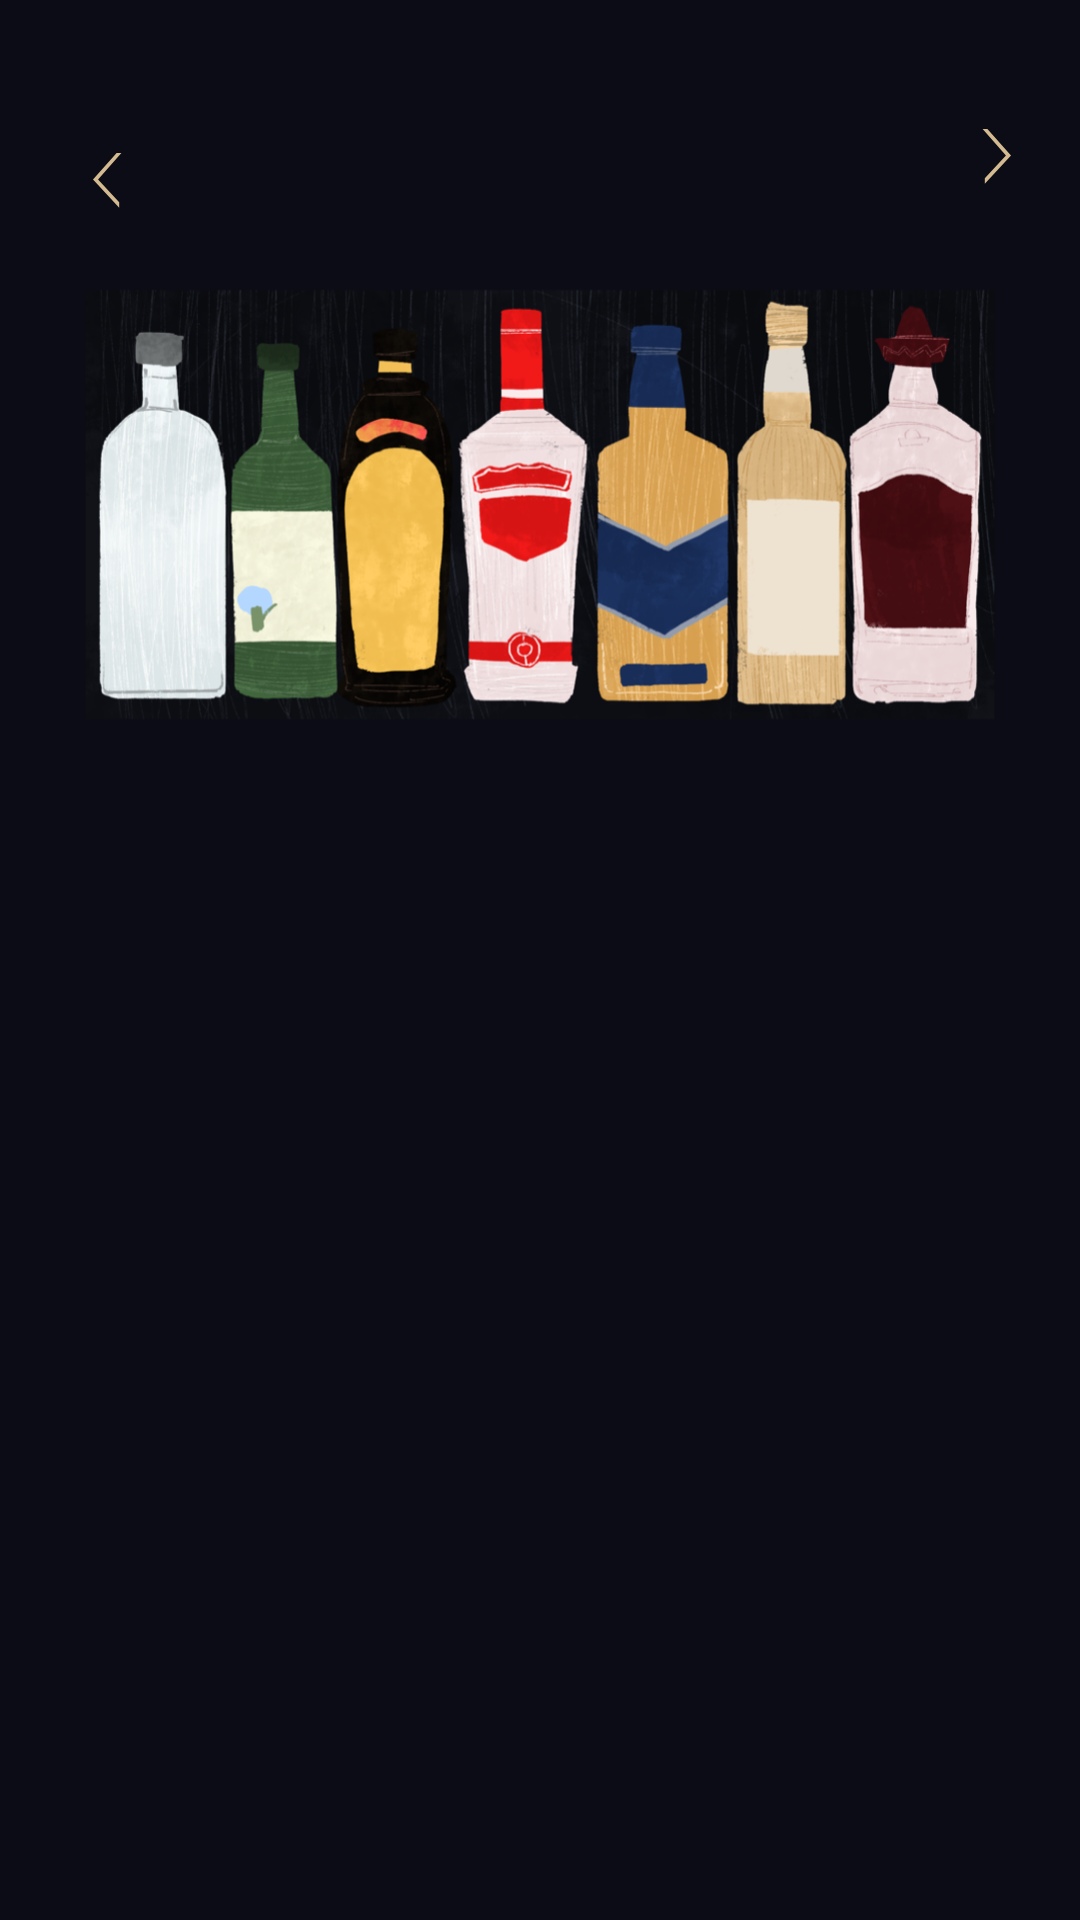

Where icons sit on this 1080 x 1920 app screen, as (x1, y1, x2, y2):
arrow back: (93, 153, 121, 208)
arrow front: (983, 129, 1011, 184)
